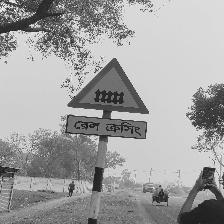Rail-crossing: (66, 59, 149, 139)
